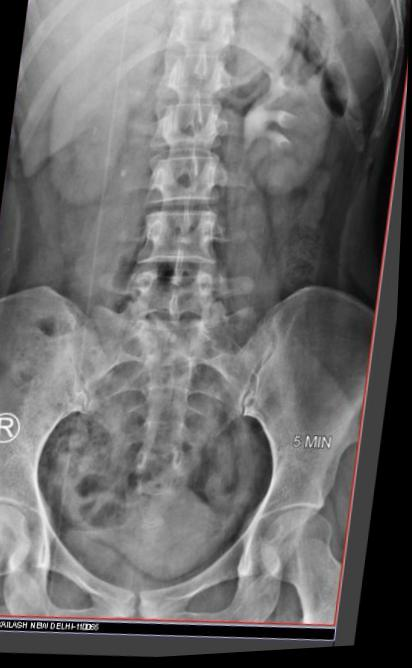bladder: (51, 469, 244, 604)
left kidney: (229, 34, 357, 210)
right kidney: (28, 14, 167, 217)
vertebrae: (156, 50, 232, 107)
